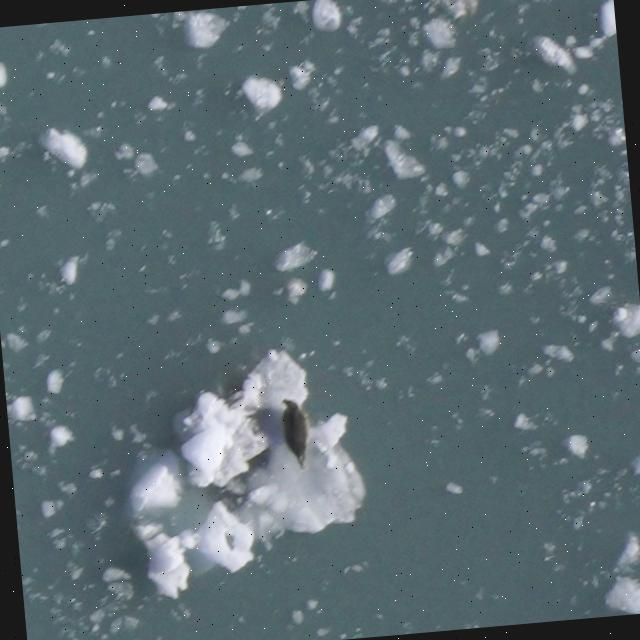seal: (277, 395, 316, 476)
